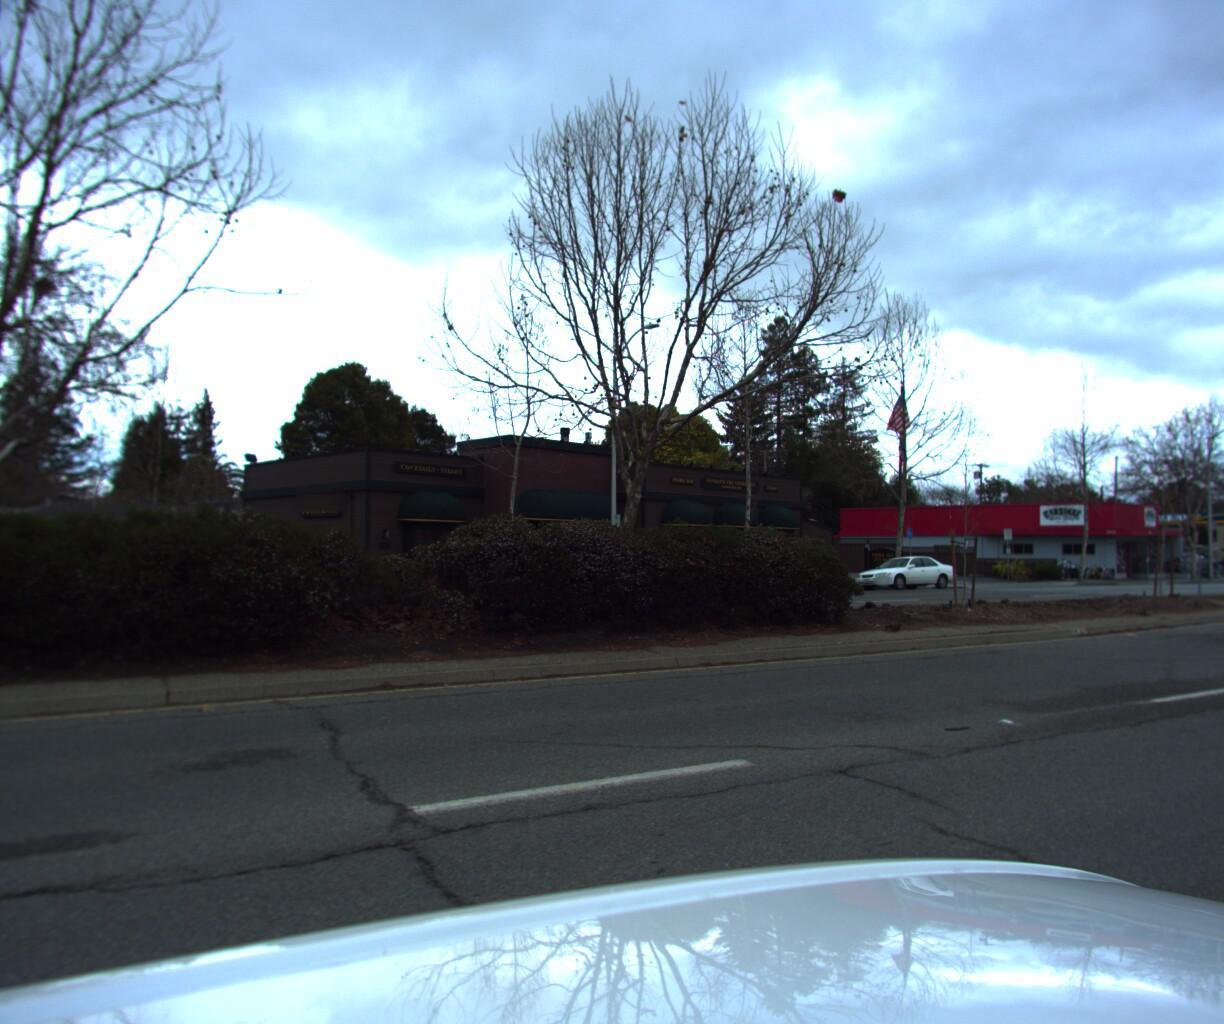bicycle: (1189, 553, 1223, 574), (1081, 557, 1094, 574)
car: (848, 551, 958, 591)
